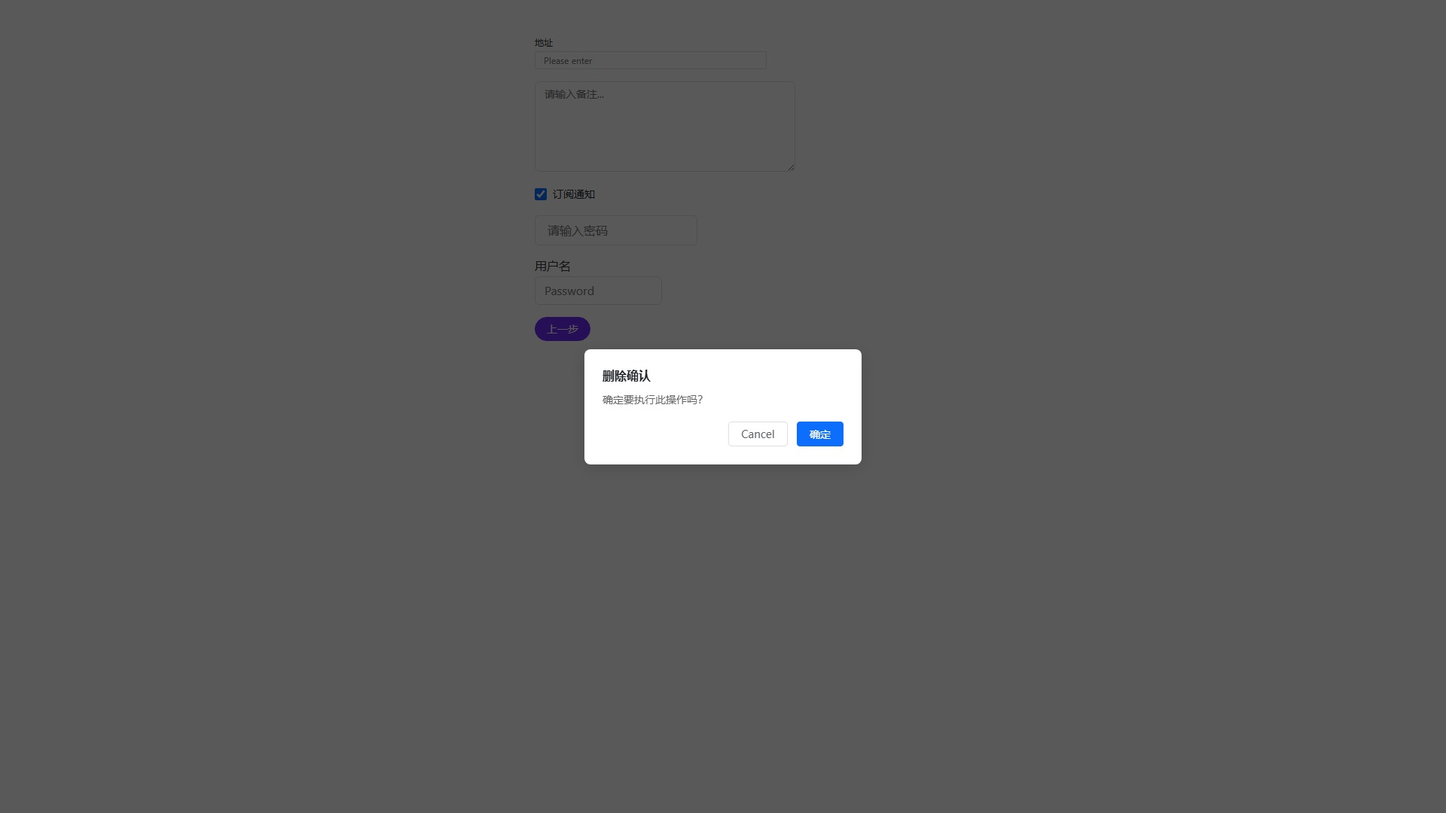button: (728, 421, 787, 446), (535, 317, 590, 341), (797, 421, 843, 446)
checkbox: (535, 188, 547, 200)
icon: (553, 187, 595, 201)
input: (535, 215, 697, 245), (535, 51, 767, 69), (535, 276, 662, 304)
modal: (0, 0, 1446, 813)
radio: (535, 187, 595, 201)
textarea: (535, 81, 795, 172)
